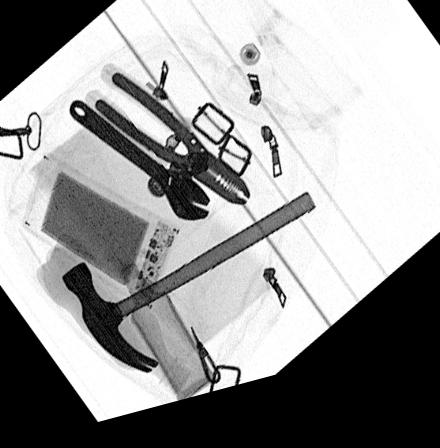Hammer: (61, 207, 314, 380)
Pliers: (84, 66, 253, 219)
Powerbank: (18, 153, 179, 318)
Wrench: (67, 102, 210, 230)
